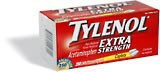grozi_72: (39, 0, 160, 72)
